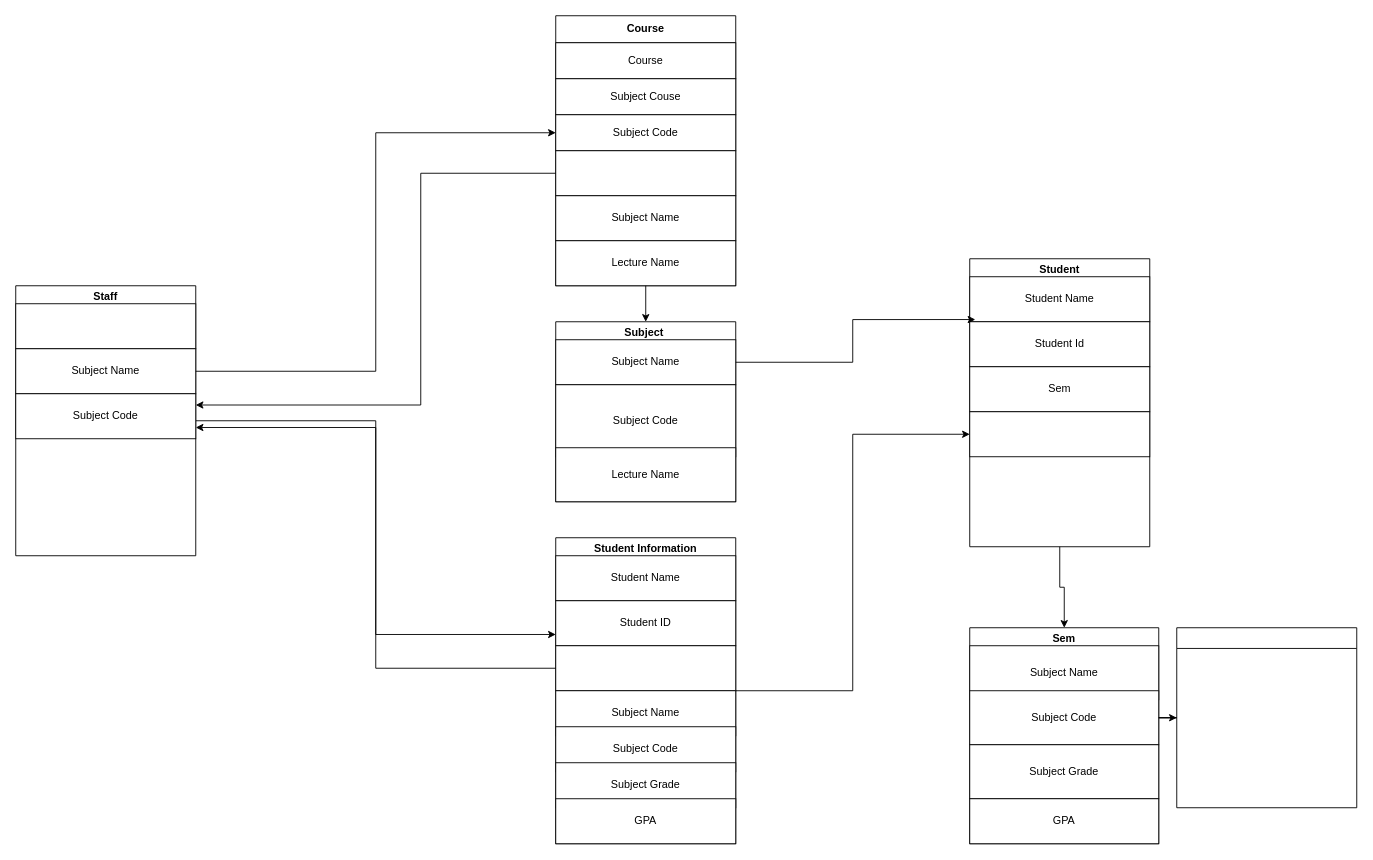
The diagram is 1373 pixels wide and 860 high, and some of its shapes have lost their labels. Each missing label, with the centre of its shape:
"All sem" goes at point 1266,717.
"Corse" goes at point 1059,434.
"Program course" goes at point 645,173.
"Staff Name" goes at point 105,326.
"Student Progrem" goes at point 645,668.
